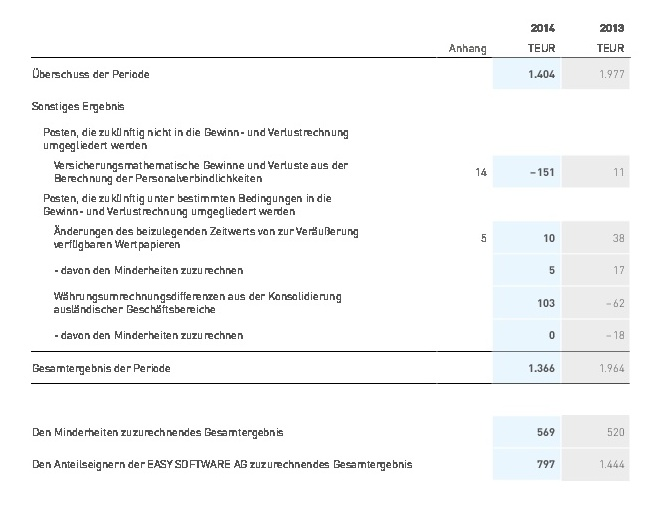table: (0, 0, 659, 511)
